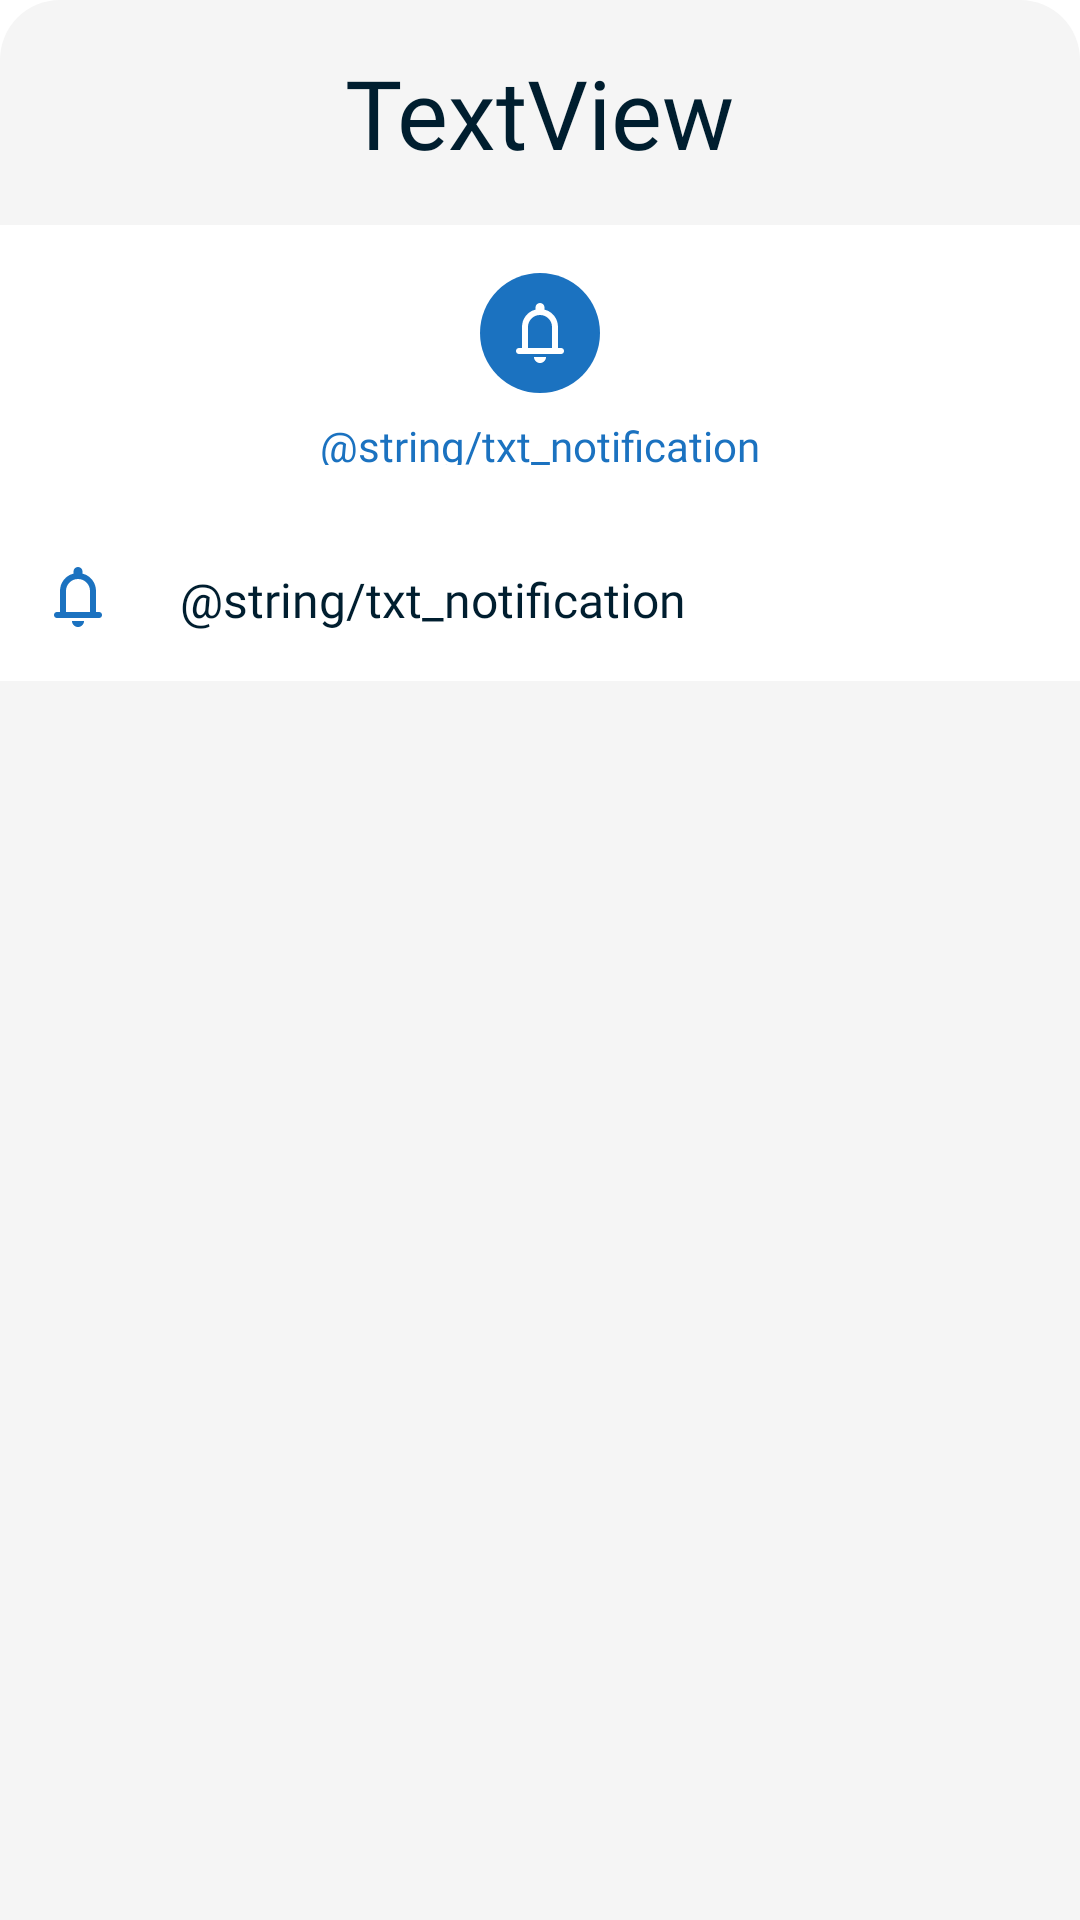

Icon click points for this 1080x1920 phone screenshot, format (x,y):
notifications: (540,333), (78,597)
